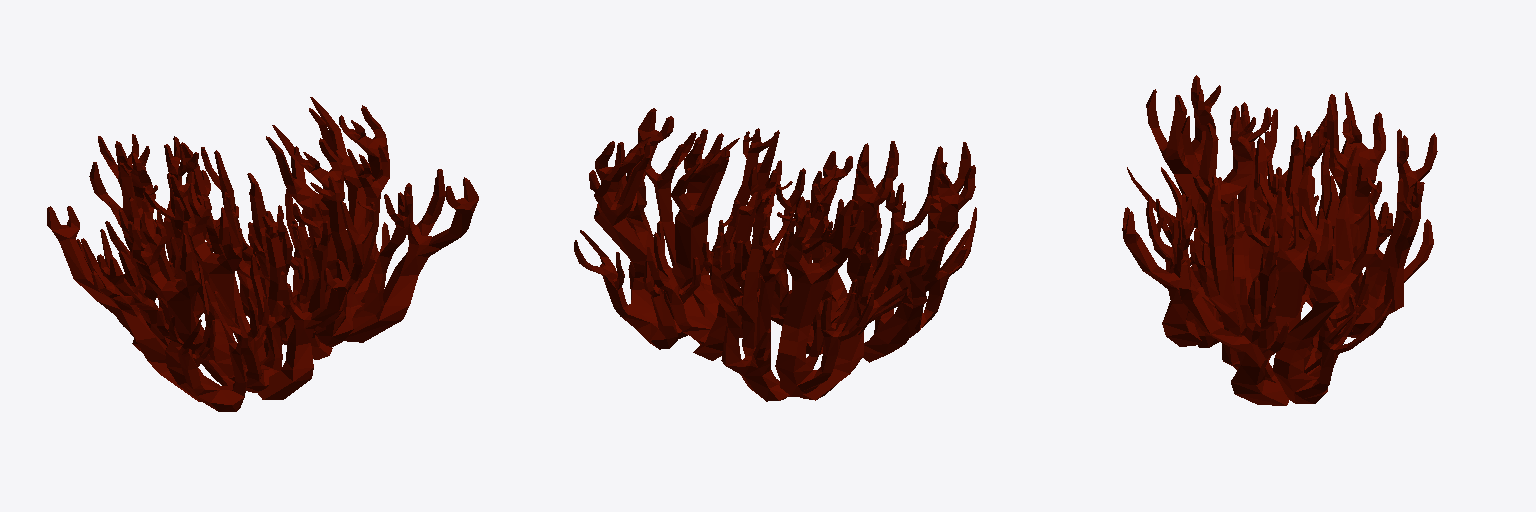
The model's file is Object_FireCoral3.obj.
3 renders of one model, left to right at view 1: azimuth 30°, elevation 25°; view 2: azimuth 150°, elevation 25°; view 3: azimuth 270°, elevation 25°, orthographic.
Parts seen in each view (by area): view 1: FireCoral3; view 2: FireCoral3; view 3: FireCoral3.
Part boxes in pixels (x1,y1,x2,y2): FireCoral3: (47, 97, 478, 411); FireCoral3: (574, 108, 976, 401); FireCoral3: (1122, 75, 1437, 405).
Size of the model in its own units: 2.32 by 1.25 by 1.74.